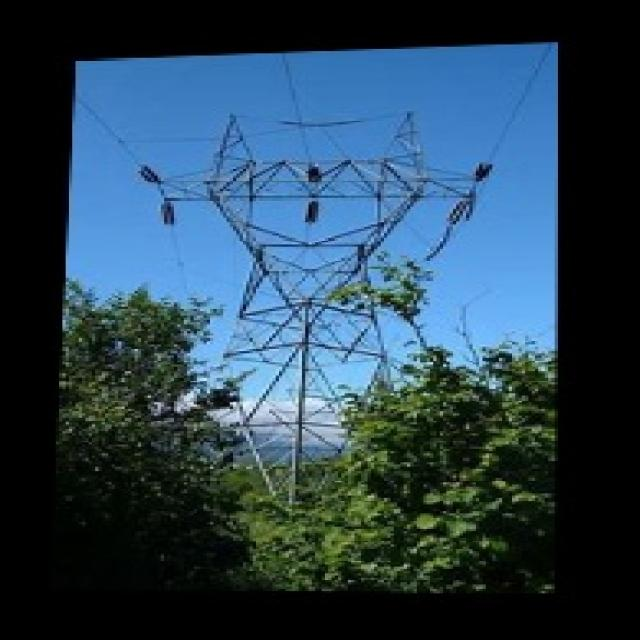utility poles: (118, 271, 281, 523), (316, 259, 474, 485)
